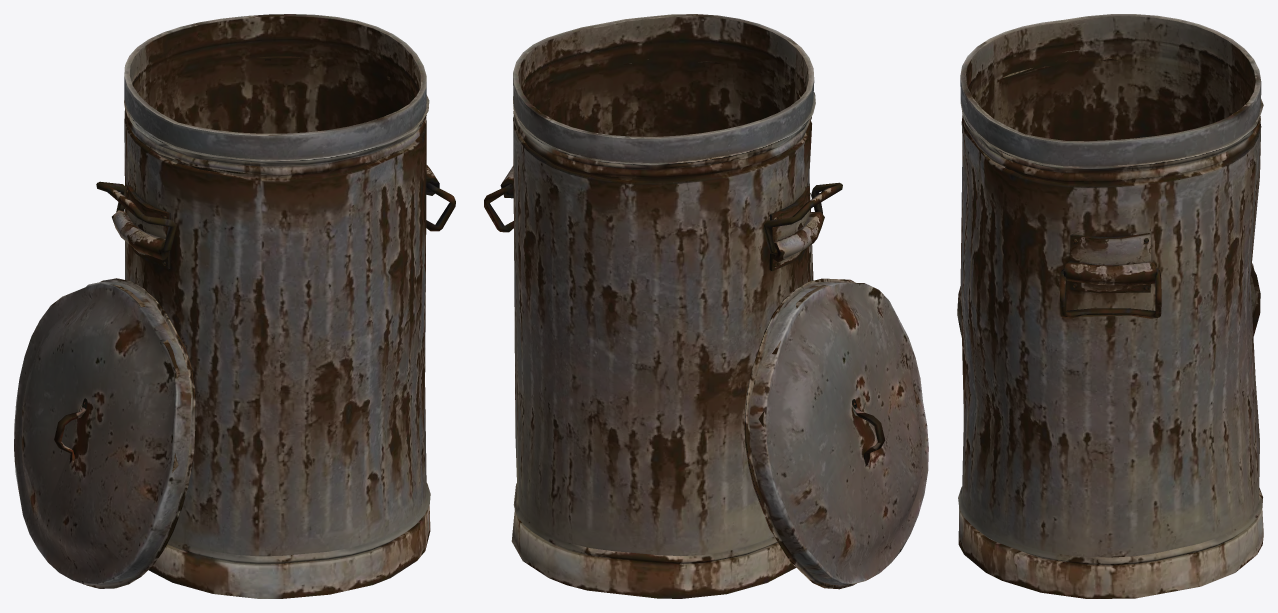
File: trashCan_hq.glb
3 renders of one model, left to right at view 1: azimuth 30°, elevation 25°; view 2: azimuth 150°, elevation 25°; view 3: azimuth 270°, elevation 25°, orthographic.
Visible parts, largest first — view 1: metal_trash_can_rust, metal_trash_can_rust_handle_left; view 2: metal_trash_can_rust, metal_trash_can_rust_handle_left; view 3: metal_trash_can_rust, metal_trash_can_rust_handle_left.
Part boxes in pixels (x1,y1,x2,y2): metal_trash_can_rust: (112,14,439,598); metal_trash_can_rust_handle_left: (14,181,455,588); metal_trash_can_rust: (500,14,824,598); metal_trash_can_rust_handle_left: (484,182,928,589); metal_trash_can_rust: (958,14,1263,598); metal_trash_can_rust_handle_left: (957,263,1260,337).
Bounding box in the file's own units: 0.7733 × 0.9062 × 0.5486.
Materials: 1 (1 with a texture image).
